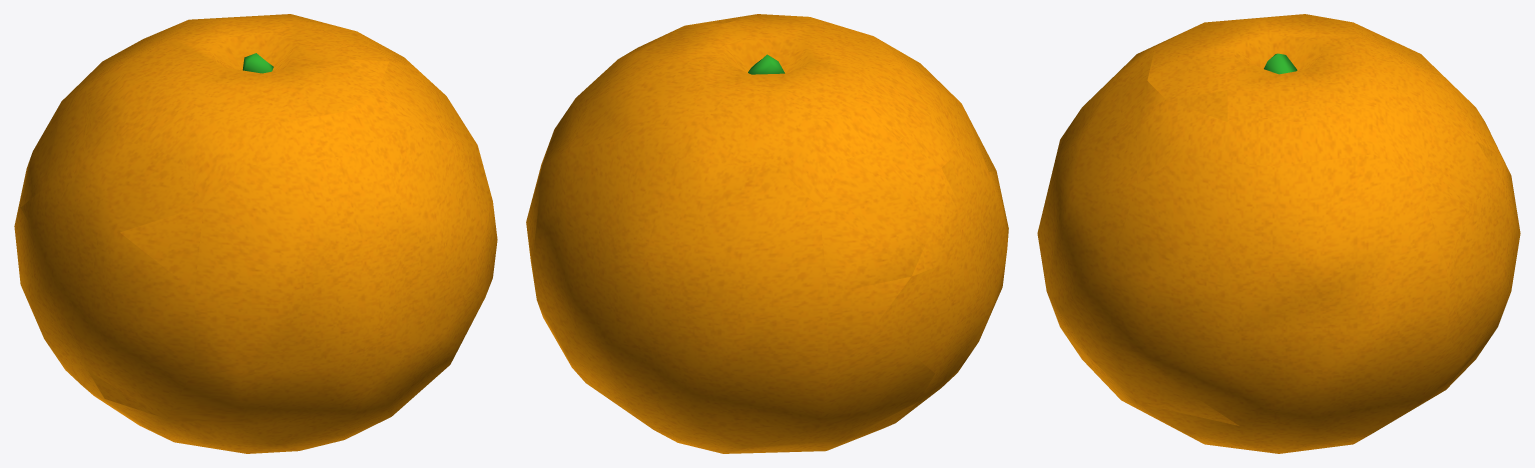
The model's file is Orange.FBX.
3 views of the same model, side by side, from view 1: azimuth 30°, elevation 25°; view 2: azimuth 150°, elevation 25°; view 3: azimuth 270°, elevation 25° (orthographic).
Parts seen in each view (by area): view 1: Orange; view 2: Orange; view 3: Orange.
Boxes of the visible parts, x1,y1,x2,y2 form: Orange: (14,14,497,453); Orange: (526,14,1008,453); Orange: (1037,14,1520,453).
Bounding box in the file's own units: 8.42 × 7.07 × 8.51.
